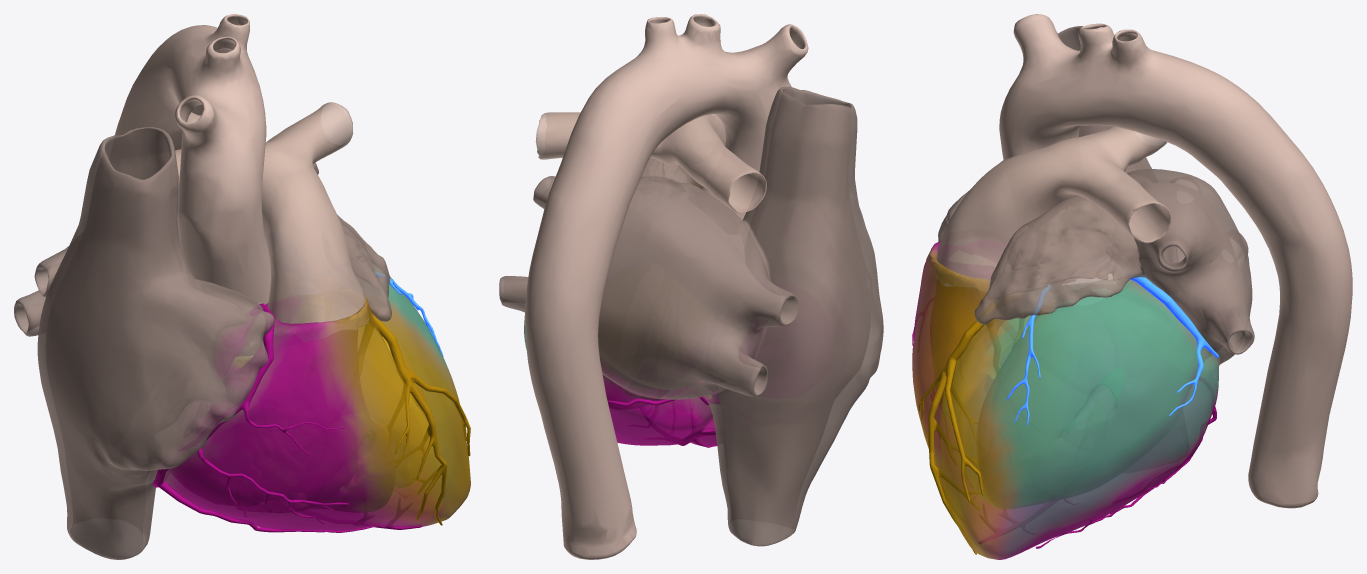
Rendered from heart.glb.
The picture shows the model from 3 angles, left to right: view 1: azimuth 30°, elevation 25°; view 2: azimuth 150°, elevation 25°; view 3: azimuth 270°, elevation 25°; orthographic projection. The views are drawn at different scales.
Parts seen in each view (by area): view 1: Heart_basis1, Aorta, Pulmonary_trunk, Arteries5, Arteries3; view 2: Heart_basis1, Aorta, Pulmonary_trunk, Arteries5; view 3: Heart_basis1, Aorta, Pulmonary_trunk, Arteries3, Arteries1, Arteries5.
Boxes of the visible parts, x1,y1,x2,y2 form: Heart_basis1: [14, 126, 470, 559]; Aorta: [115, 14, 270, 356]; Pulmonary_trunk: [175, 102, 368, 341]; Arteries5: [152, 303, 422, 532]; Arteries3: [358, 309, 470, 525]; Heart_basis1: [499, 86, 883, 546]; Aorta: [525, 14, 808, 559]; Pulmonary_trunk: [535, 112, 766, 213]; Arteries5: [607, 387, 719, 447]; Heart_basis1: [912, 26, 1254, 559]; Aorta: [999, 14, 1352, 508]; Pulmonary_trunk: [933, 126, 1170, 293]; Arteries3: [918, 302, 1024, 554]; Arteries1: [1007, 274, 1218, 425]; Arteries5: [912, 306, 1216, 548].
Size of what is drawn, in the model's own units: 1.45 by 2 by 1.64.
